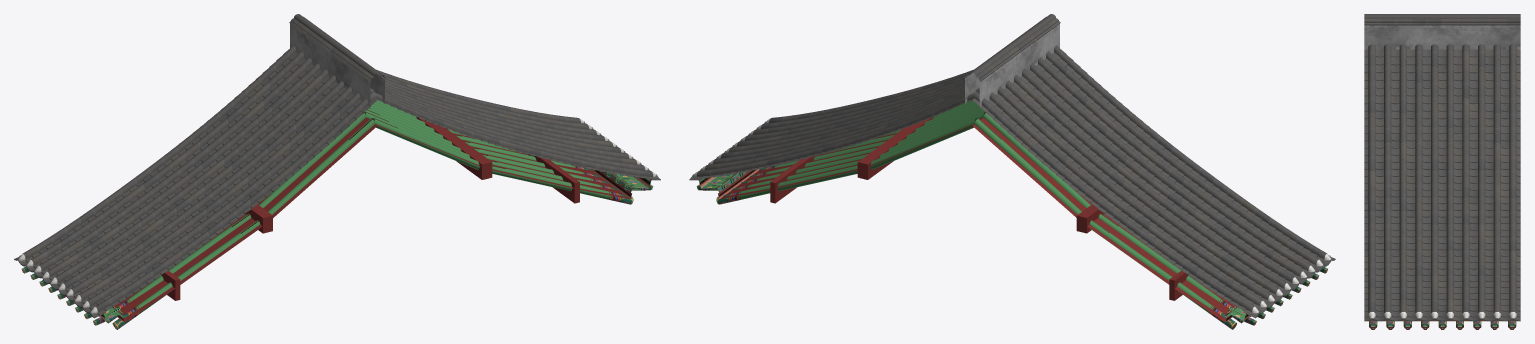
The model's file is SM_Castle_Roof04a.fbx.
3 renders of one model, left to right at view 1: azimuth 30°, elevation 25°; view 2: azimuth 150°, elevation 25°; view 3: azimuth 270°, elevation 25°, orthographic. The views are drawn at different scales.
Parts seen in each view (by area): view 1: SM_Castle_Roof04a; view 2: SM_Castle_Roof04a; view 3: SM_Castle_Roof04a.
Part boxes in pixels (x1,y1,x2,y2): SM_Castle_Roof04a: [14, 14, 660, 329]; SM_Castle_Roof04a: [689, 14, 1335, 329]; SM_Castle_Roof04a: [1364, 14, 1520, 329].
Size of the model in its own units: 1223 by 300 by 407.
Materials: 2 (2 with a texture image).
